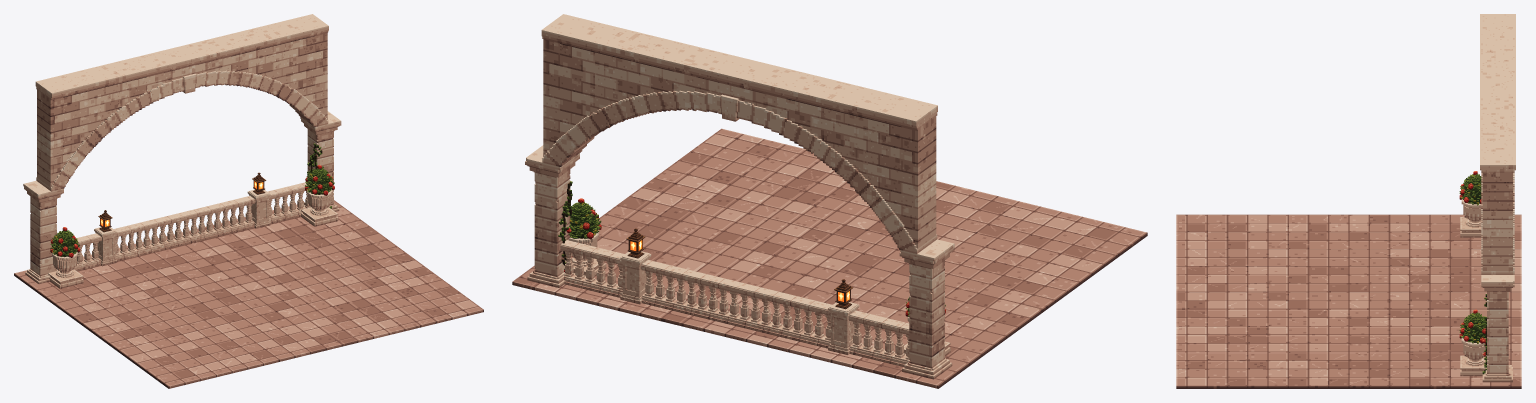
The model's file is terrace.glb.
The picture shows the model from 3 angles, left to right: view 1: azimuth 30°, elevation 25°; view 2: azimuth 150°, elevation 25°; view 3: azimuth 270°, elevation 25°; orthographic projection. The views are drawn at different scales.
Parts seen in each view (by area): view 1: Floor, Arch, Terrace_Balustrade, Column, Column.001, Urn_Vase.001, Urn_Vase, Urn_RoseBush, Urn_RoseBush.001; view 2: Floor, Arch, Terrace_Balustrade, Column, Column.001, Urn_RoseBush.001; view 3: Floor, Arch, Column.001, Urn_Vase.001, Urn_Vase, Urn_RoseBush.001, Urn_RoseBush.
Boxes of the visible parts, x1,y1,x2,y2 form: Floor: [14, 200, 483, 388]; Arch: [35, 14, 328, 191]; Terrace_Balustrade: [74, 182, 310, 270]; Column: [23, 180, 63, 284]; Column.001: [300, 111, 341, 211]; Urn_Vase.001: [301, 189, 338, 226]; Urn_Vase: [48, 252, 83, 288]; Urn_RoseBush: [50, 227, 80, 257]; Urn_RoseBush.001: [305, 165, 334, 195]; Floor: [512, 128, 1147, 388]; Arch: [541, 14, 937, 253]; Terrace_Balustrade: [560, 240, 909, 366]; Column: [899, 239, 954, 379]; Column.001: [525, 145, 579, 287]; Urn_RoseBush.001: [568, 198, 601, 239]; Floor: [1176, 214, 1521, 388]; Arch: [1480, 14, 1515, 274]; Column.001: [1481, 275, 1514, 382]; Urn_Vase.001: [1460, 337, 1486, 376]; Urn_Vase: [1460, 199, 1481, 237]; Urn_RoseBush.001: [1459, 309, 1485, 343]; Urn_RoseBush: [1459, 171, 1481, 205].
Size of the model in its own units: 11.24 by 6.52 by 9.56.
